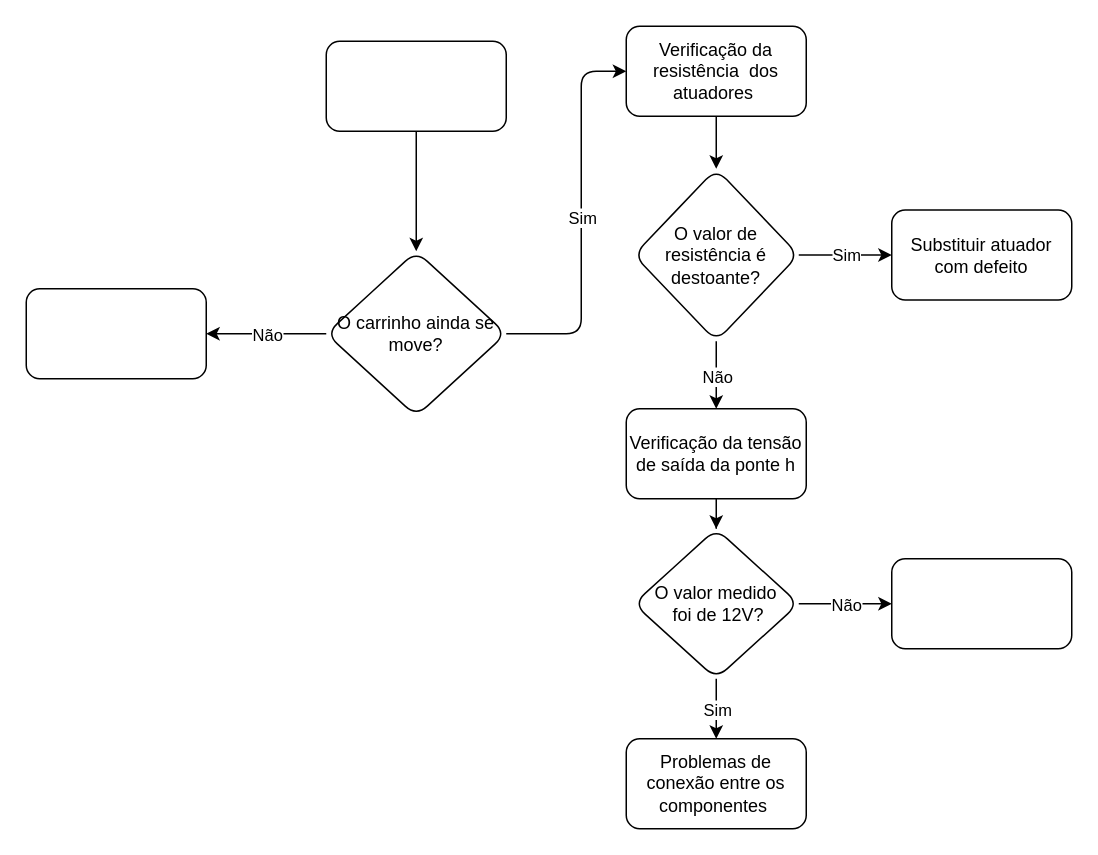
The diagram is 1098 pixels wide and 855 high, and some of its shapes have lost their labels. Here are the shapes that lost their labels. From the top down, the centre of each, then its label:
point 415,85: Ativar travas e empurrar o carrinho
point 115,333: O sistema funciona corretamente
point 981,603: Substituir ponte h com defeito
